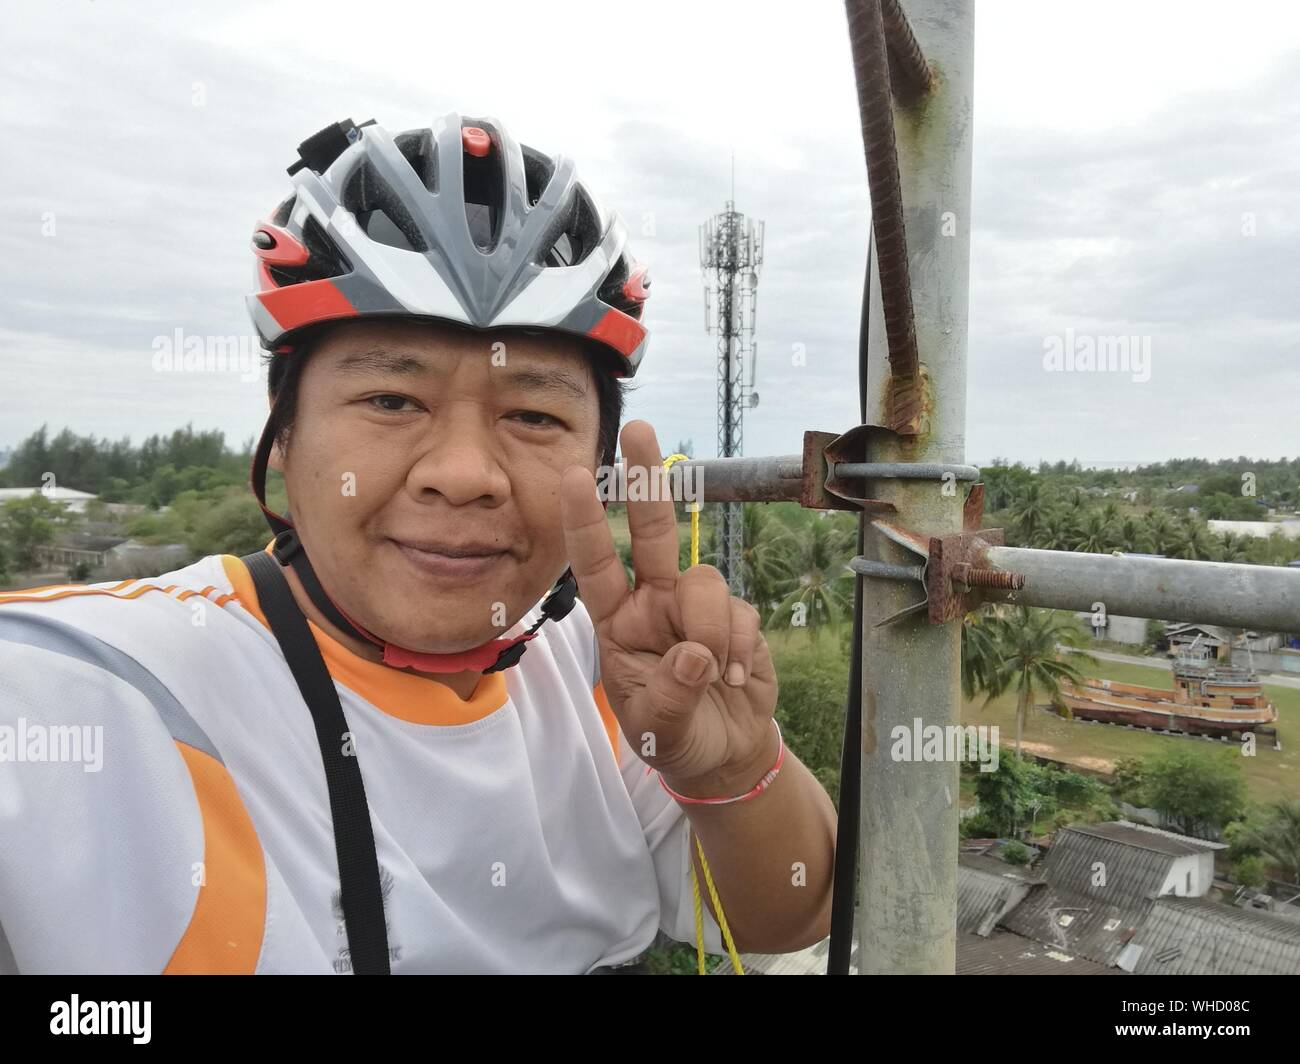helmet: (252, 115, 649, 656)
